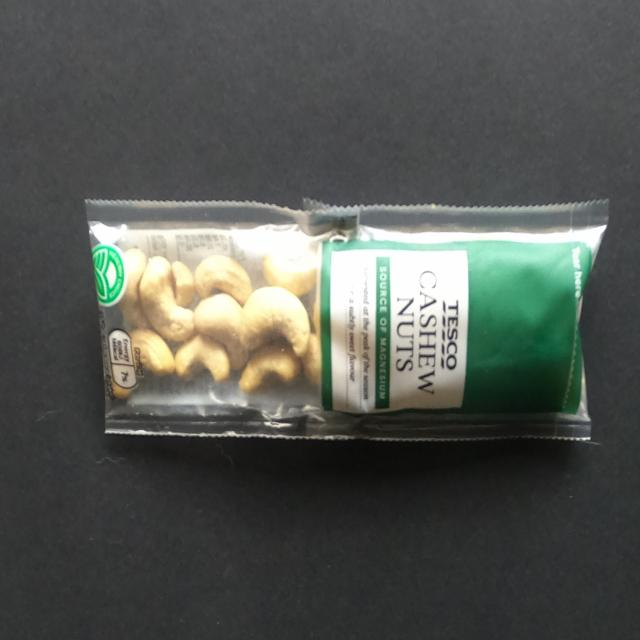Cashewnut: (81, 184, 613, 453)
